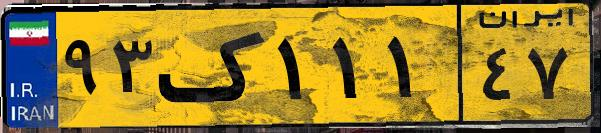1: (270, 28, 330, 110), (385, 28, 445, 110), (330, 28, 385, 110)
3: (110, 28, 158, 98)
4: (475, 38, 525, 113)
7: (525, 38, 570, 115)
9: (57, 26, 110, 100)
ک: (158, 12, 270, 120)
